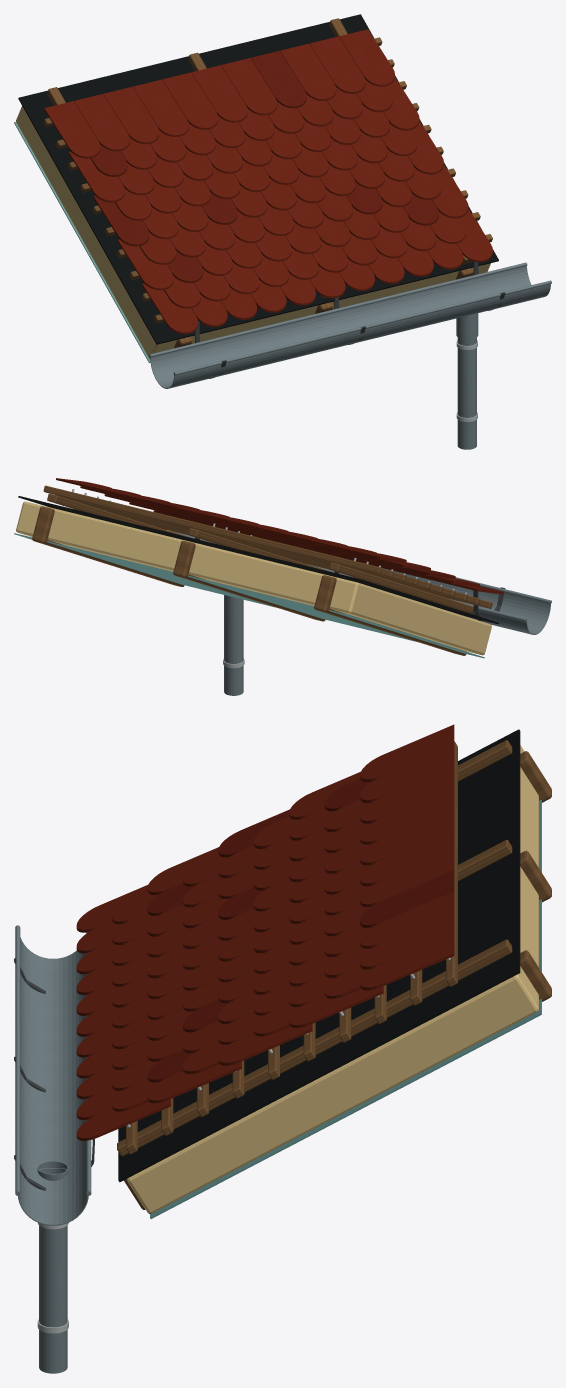
The model's file is modell.glb.
The picture shows the model from 3 angles, top to bottom: view 1: azimuth 30°, elevation 25°; view 2: azimuth 150°, elevation 25°; view 3: azimuth 270°, elevation 25°; orthographic projection. The views are drawn at different scales.
Visible parts, largest first — view 1: g06-deckziegel_deckung, g06-rinne_, g06-zusatzebene_zusatzebene, g06-deckziegel_deckung.001, g06-daemmung_daemmung, g06-fallrohr_, g06-lattung_lattung, g06-luftdichtheit_luftdichtheit, g06-stutzen_; view 2: g06-daemmung_daemmung, g06-lattung_lattung, g06-deckziegel_deckung, g06-sparren_tragwerk, g06-luftdichtheit_luftdichtheit, g06-rinne_, g06-zusatzebene_zusatzebene, g06-fallrohr_, g06-deckziegel_deckung.001; view 3: g06-deckziegel_deckung, g06-zusatzebene_zusatzebene, g06-daemmung_daemmung, g06-rinne_, g06-lattung_lattung, g06-deckziegel_deckung.001, g06-fallrohr_, g06-luftdichtheit_luftdichtheit, g06-sparren_tragwerk.
Part boxes in pixels (x1,y1,x2,y2): g06-deckziegel_deckung: (44, 29, 492, 334); g06-rinne_: (149, 262, 551, 388); g06-zusatzebene_zusatzebene: (18, 14, 498, 344); g06-deckziegel_deckung.001: (90, 50, 438, 283); g06-daemmung_daemmung: (16, 106, 490, 359); g06-fallrohr_: (457, 337, 476, 449); g06-lattung_lattung: (43, 18, 492, 323); g06-luftdichtheit_luftdichtheit: (14, 122, 150, 362); g06-stutzen_: (456, 313, 478, 339); g06-daemmung_daemmung: (16, 501, 491, 655); g06-lattung_lattung: (43, 485, 492, 613); g06-deckziegel_deckung: (56, 478, 504, 594); g06-sparren_tragwerk: (32, 506, 466, 655); g06-luftdichtheit_luftdichtheit: (14, 533, 484, 658); g06-rinne_: (170, 530, 551, 634); g06-zusatzebene_zusatzebene: (18, 496, 498, 624); g06-fallrohr_: (224, 595, 243, 695); g06-deckziegel_deckung.001: (144, 499, 455, 578); g06-deckziegel_deckung: (76, 724, 454, 1140); g06-zusatzebene_zusatzebene: (118, 729, 520, 1182); g06-daemmung_daemmung: (127, 745, 538, 1213); g06-rinne_: (15, 925, 91, 1225); g06-lattung_lattung: (117, 740, 512, 1156); g06-deckziegel_deckung.001: (147, 779, 454, 1082); g06-fallrohr_: (39, 1225, 67, 1373); g06-luftdichtheit_luftdichtheit: (150, 800, 541, 1218); g06-sparren_tragwerk: (124, 751, 551, 1209).
Bounding box in the file's own units: 2.3 × 1.78 × 1.97.
9 materials, 4 textured.
